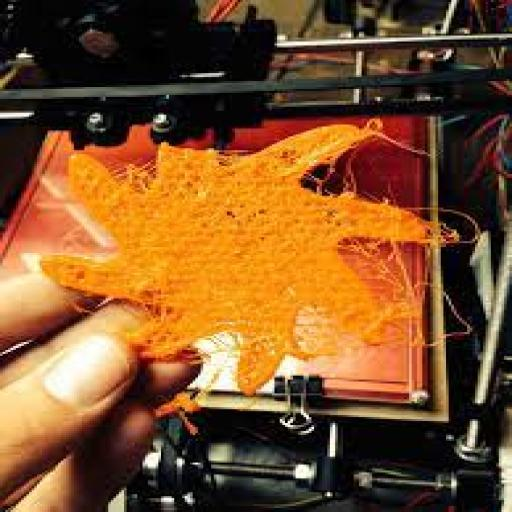spaghetti: (54, 110, 488, 408)
